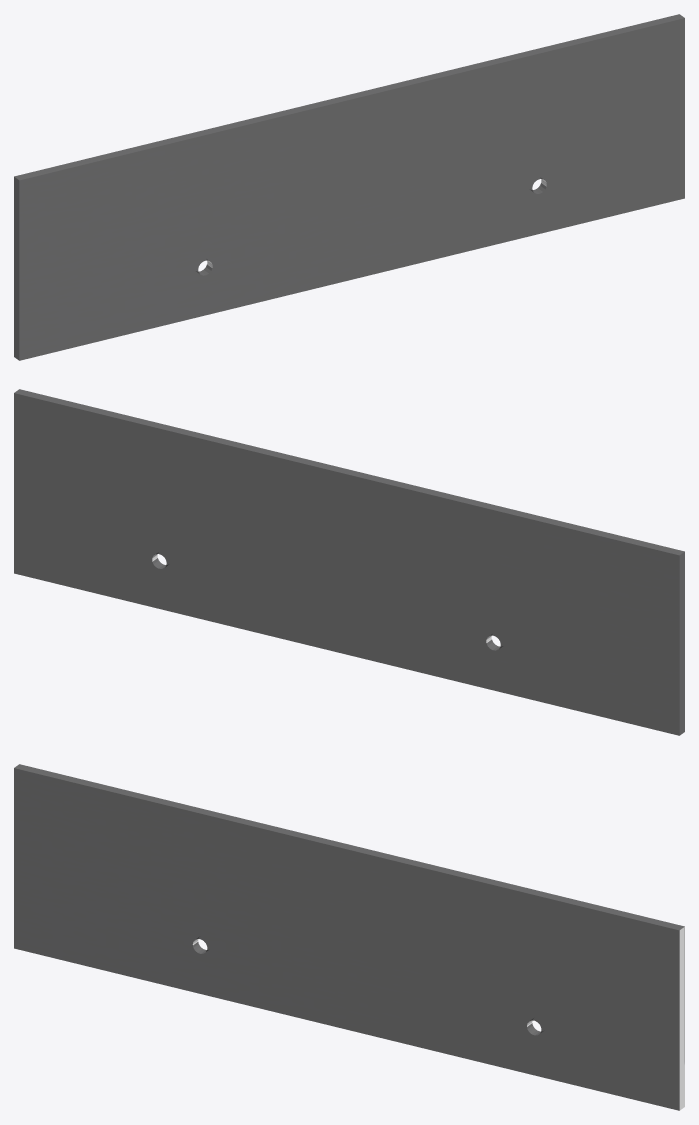
File: RightSidePanel.glb
The picture shows the model from 3 angles, top to bottom: view 1: azimuth 30°, elevation 25°; view 2: azimuth 150°, elevation 25°; view 3: azimuth 330°, elevation 25°; orthographic projection.
Parts seen in each view (by area): view 1: RightSidePanel; view 2: RightSidePanel; view 3: RightSidePanel.
Part boxes in pixels (x1=…): RightSidePanel: x1=14, y1=14, x2=684, y2=360; RightSidePanel: x1=14, y1=389, x2=684, y2=735; RightSidePanel: x1=14, y1=764, x2=684, y2=1110.
Size of the model in its own units: 5.33 by 1.38 by 0.0751.
Materials: 1 (1 with a texture image).
